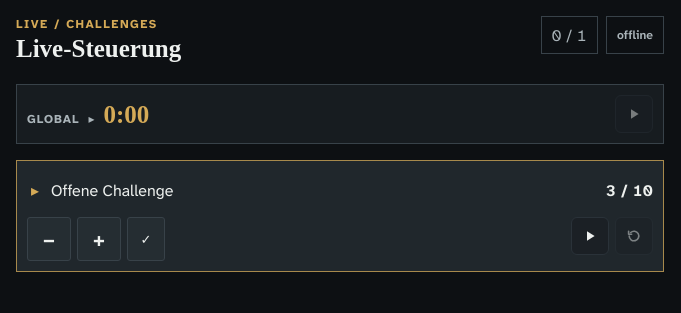
it: Live-Bedienseite › meldet bei not_found die gelöschte Challenge, bevor die Zeile verschwindet
The image size is (681, 313).
Click the button named "Offene Challenge um 1 erhöhen" at (99, 239), box x1=77 y1=217 x2=121 y2=261
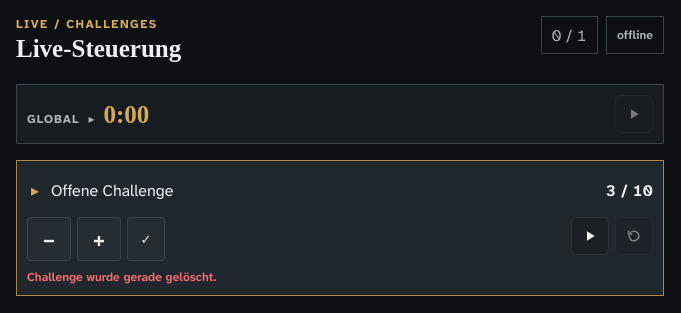
Expected: the text "3 / 10" is shown, x1=606 y1=180 x2=653 y2=200
Expected: the message reads "Challenge wurde gerade gelöscht.", x1=27 y1=269 x2=216 y2=285
